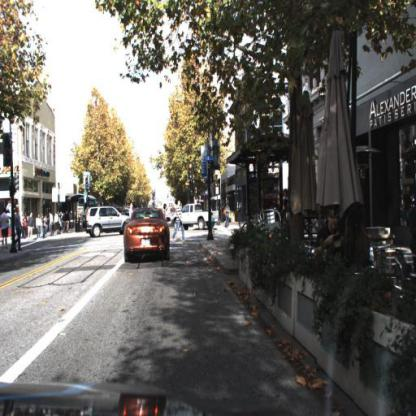car: (122, 207, 172, 267), (82, 204, 132, 240), (84, 204, 133, 239), (181, 201, 217, 233)
pedestrian: (310, 208, 345, 261), (171, 200, 187, 244), (173, 198, 186, 244), (15, 204, 25, 255), (26, 211, 36, 242), (208, 212, 217, 238), (36, 212, 44, 239), (224, 202, 232, 229), (27, 211, 34, 241), (47, 211, 55, 235), (44, 215, 51, 238), (61, 211, 67, 231), (71, 208, 76, 232), (127, 204, 134, 221), (67, 209, 71, 236)
trafficLight-Red: (187, 161, 194, 182), (85, 176, 91, 190)
